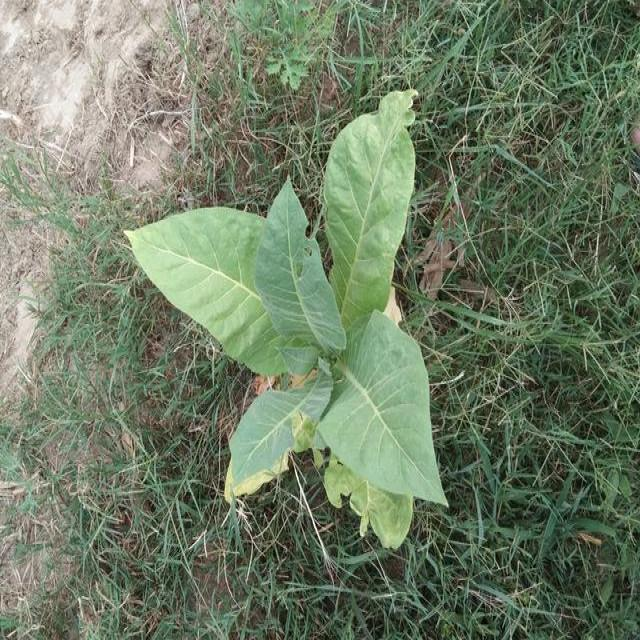crop: (120, 85, 452, 558)
